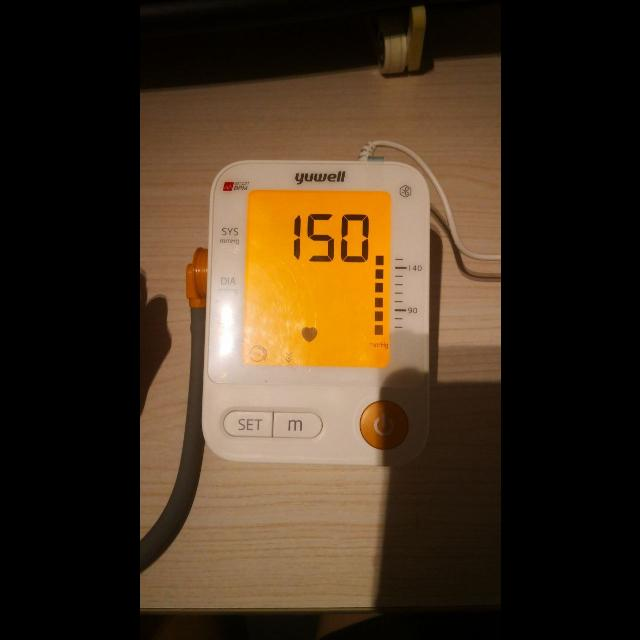Blood-Pressure-Monitor: (200, 160, 430, 466)
